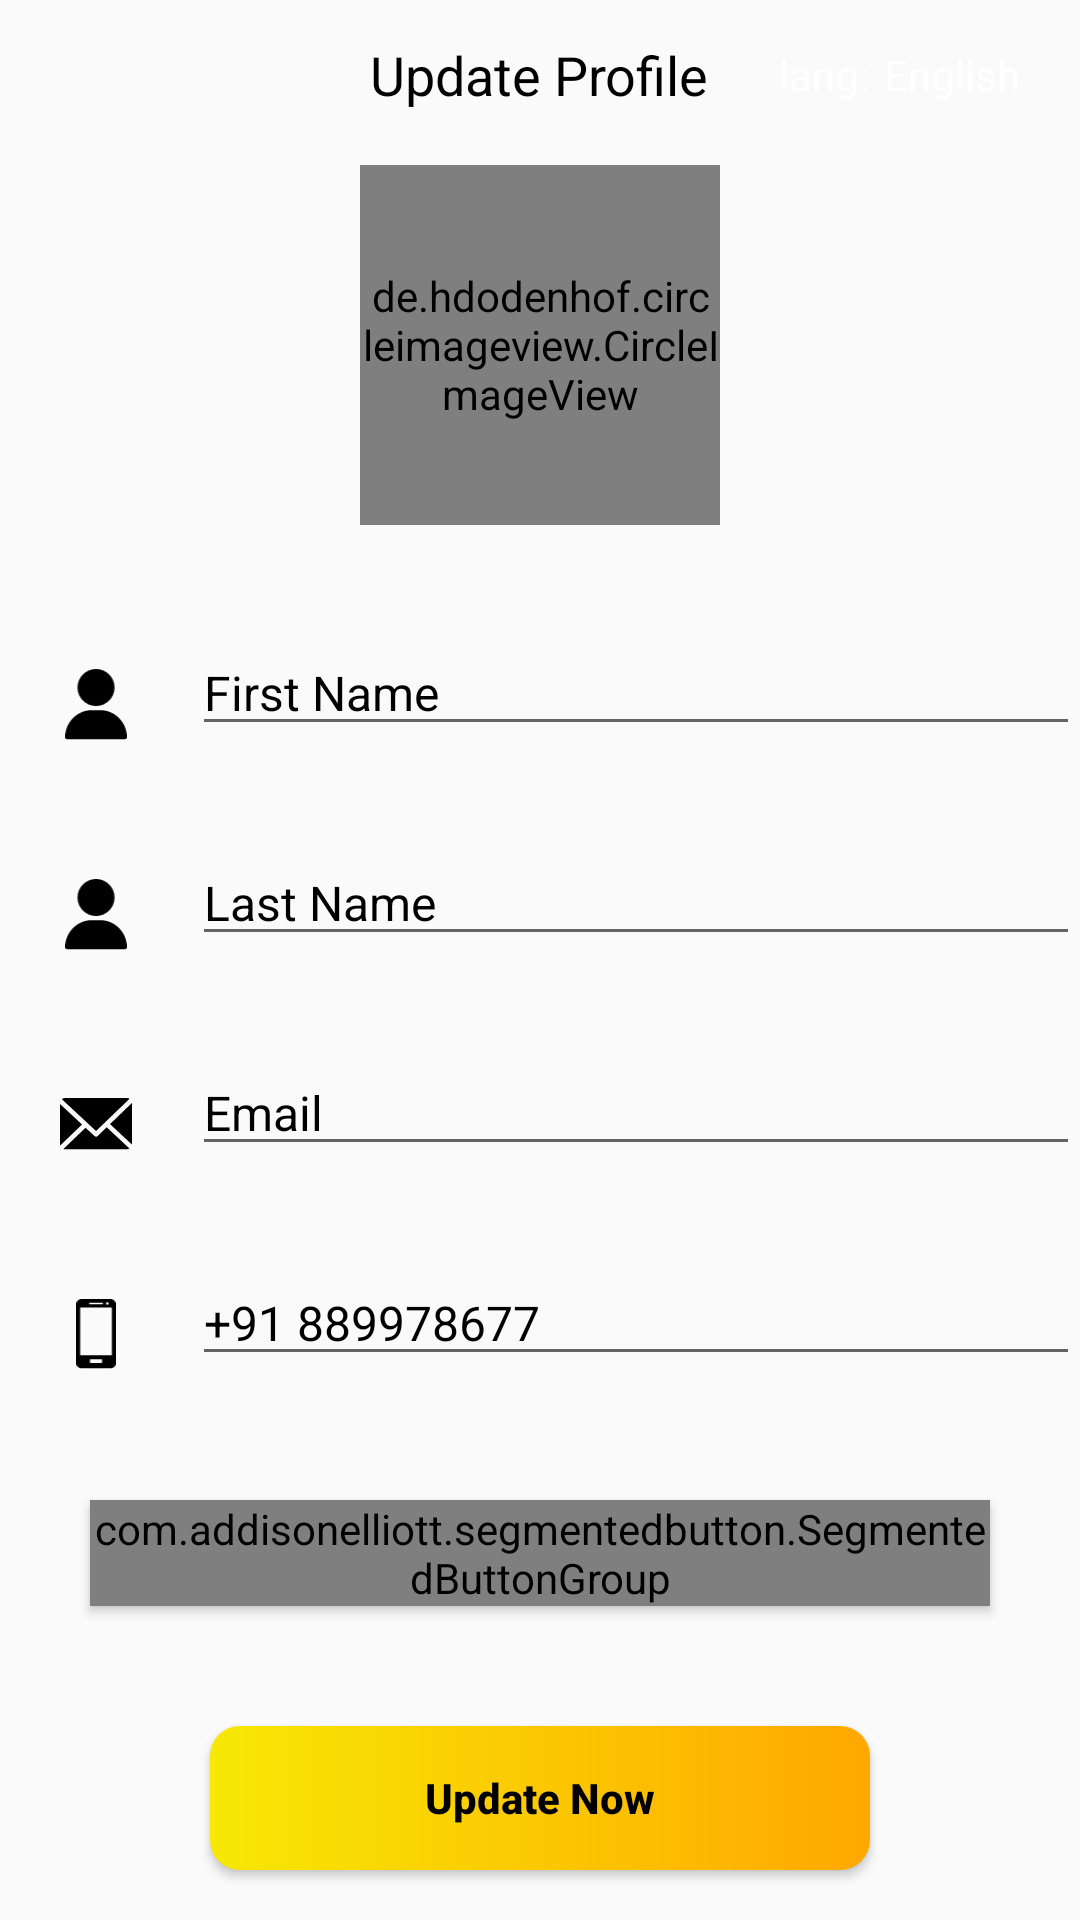

Icon click points for this 1080x1920 phone screenshot, format point (x, y):
phone: point (96, 1334)
user: point (96, 704), point (96, 914)
